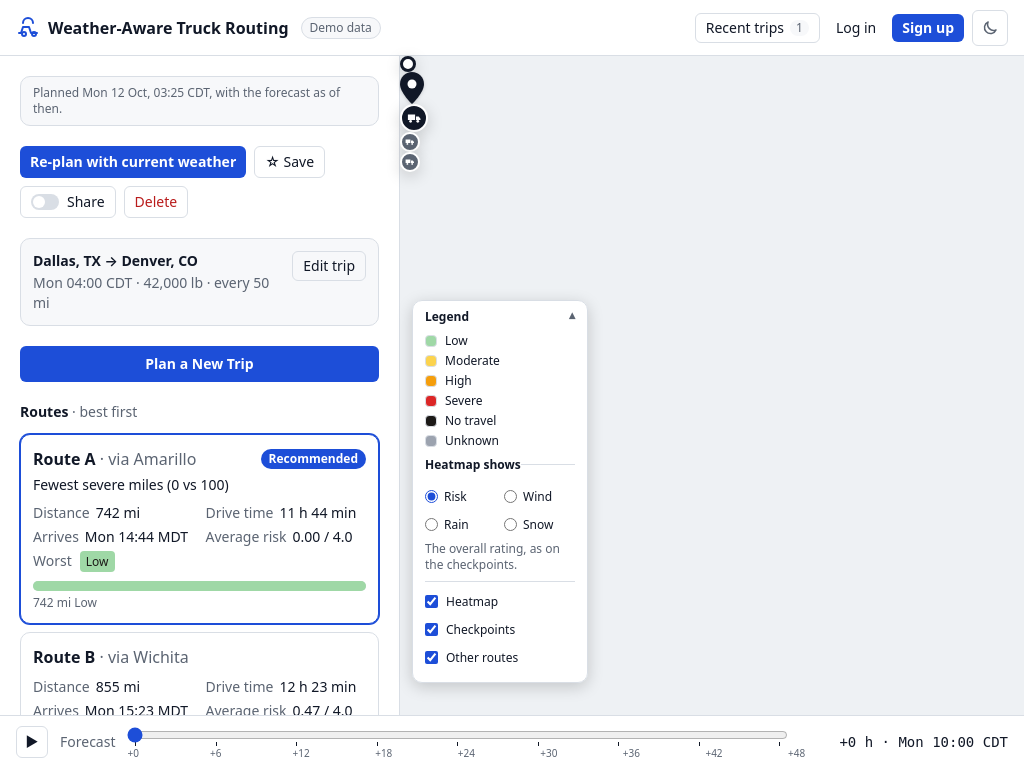
Test: trip actions › asks a guest to make an account to save, and saves nothing
This screenshot has width=1024, height=768.
Click the button "☆ Save" at point(290, 162), box [254,146,325,178]
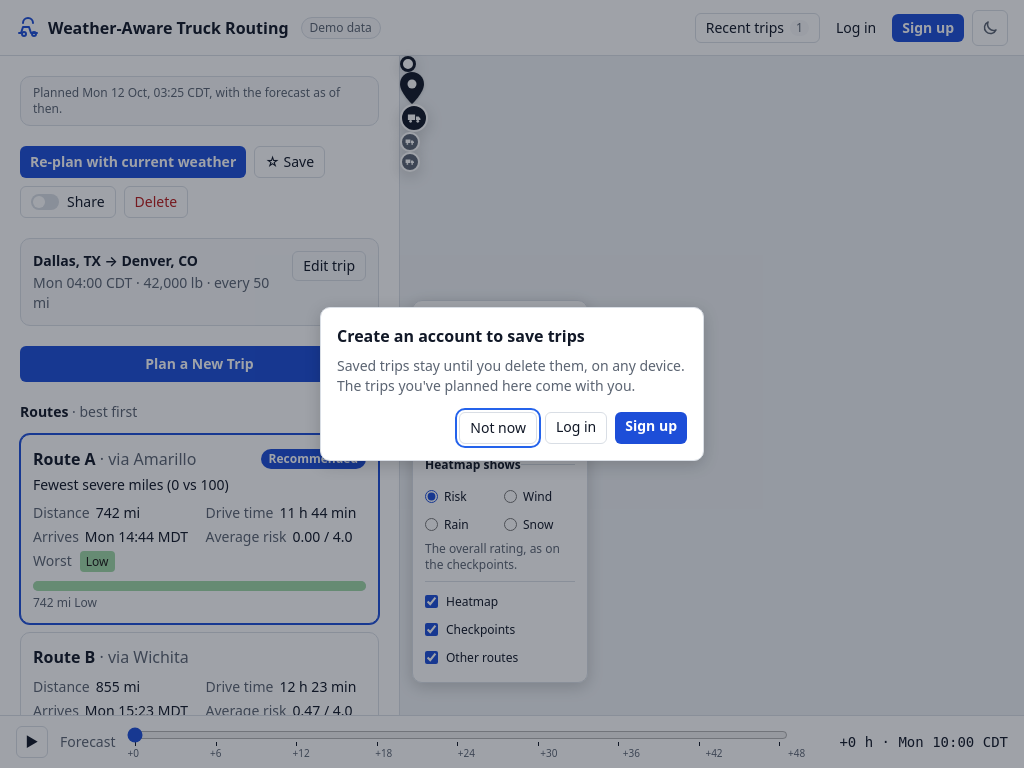
Press Enter
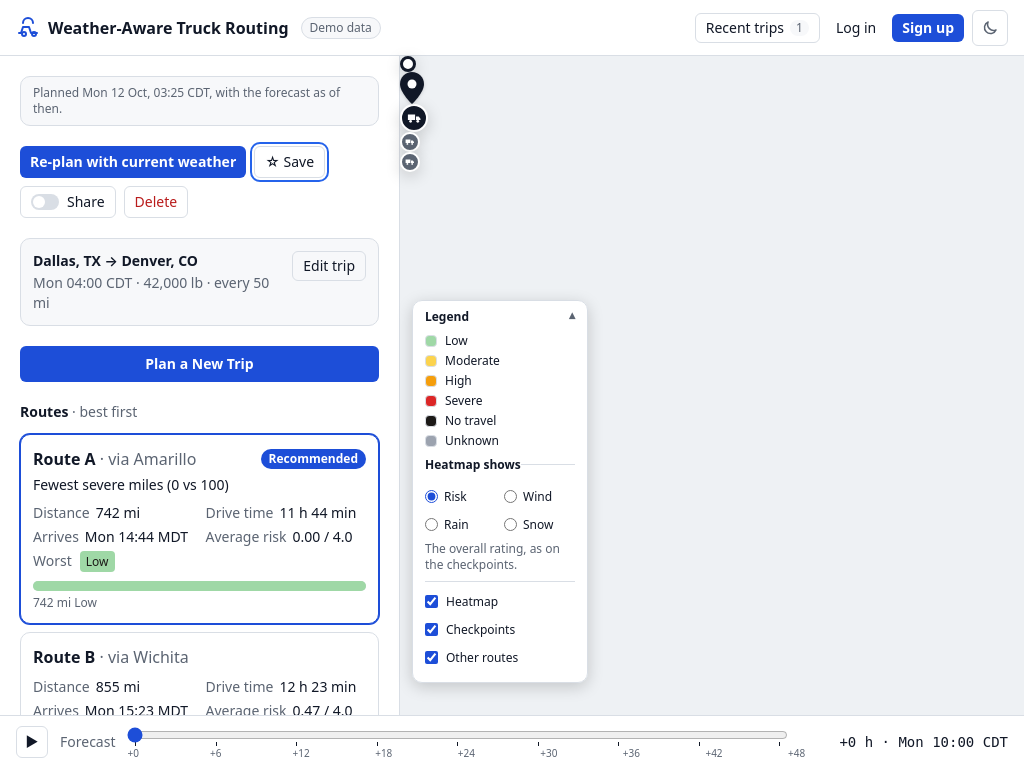
Expected: the dialog is gone
